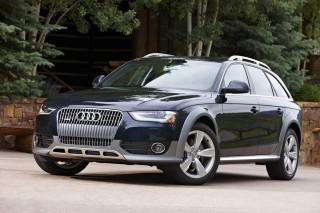Audi: (73, 108, 105, 126)
